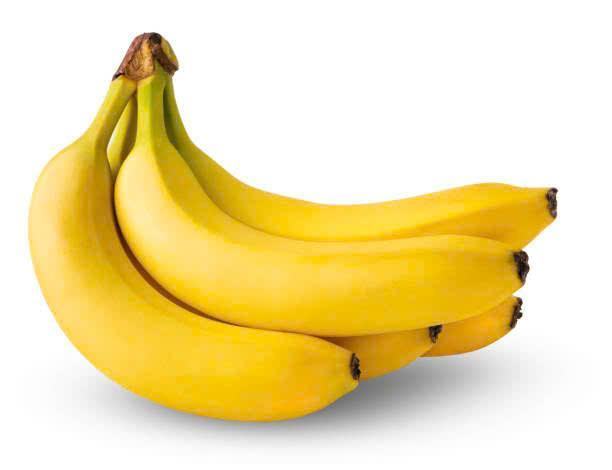banana: (34, 12, 561, 421), (126, 41, 549, 319)
